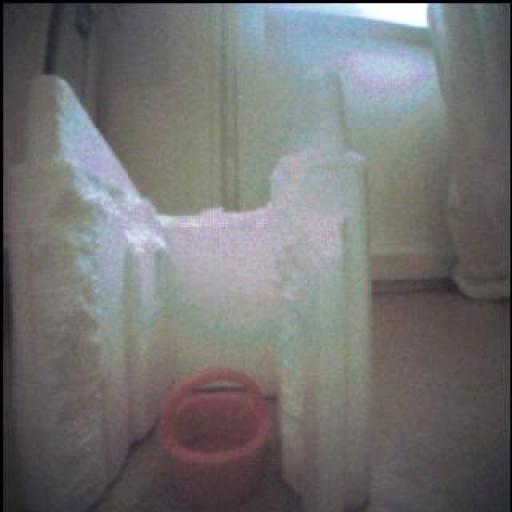Basket: (161, 369, 271, 507)
